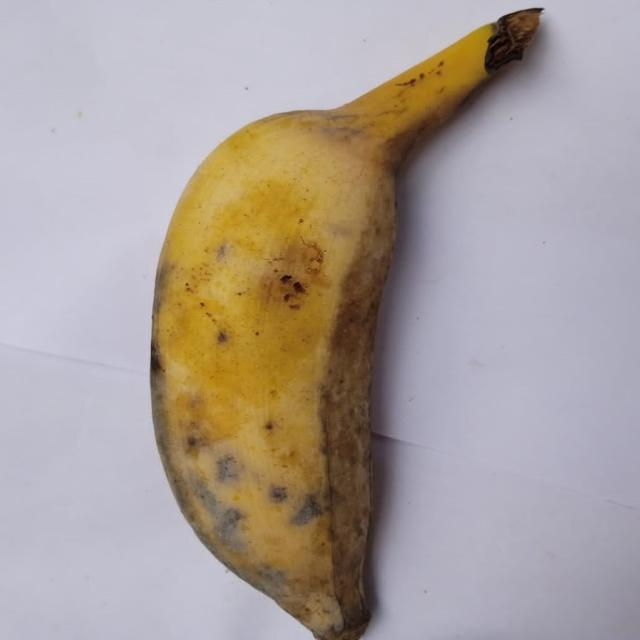banana: (151, 10, 541, 639)
